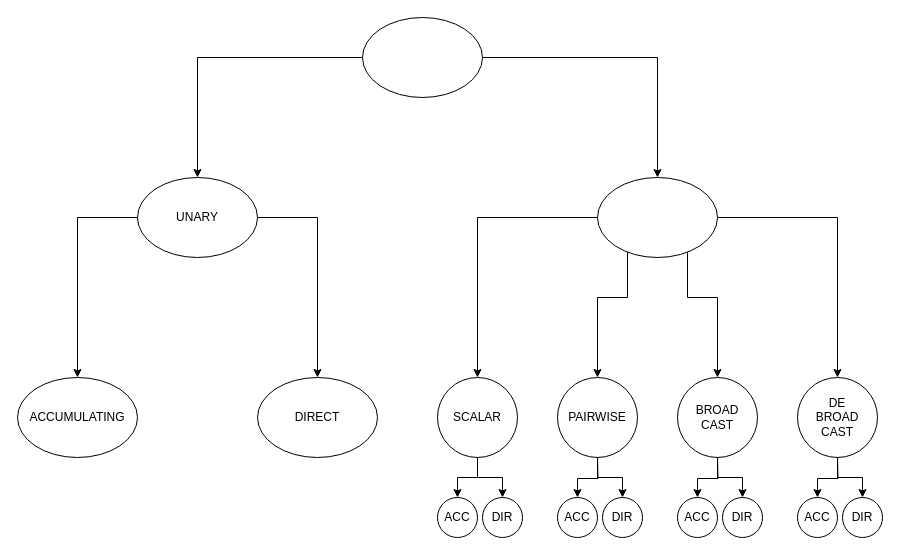
This 900x555 diagram has some shape labels left out. Each missing label, with the box of its shape:
ALL OPS: (362, 16, 482, 98)
BINARY: (596, 176, 718, 258)
